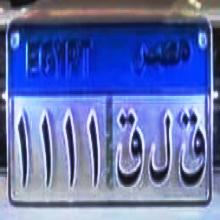1: (82, 104, 102, 188), (60, 106, 77, 191), (14, 108, 31, 191), (38, 109, 55, 185)
laam: (148, 100, 172, 190)
qaaf: (174, 100, 207, 190), (113, 103, 144, 192)
